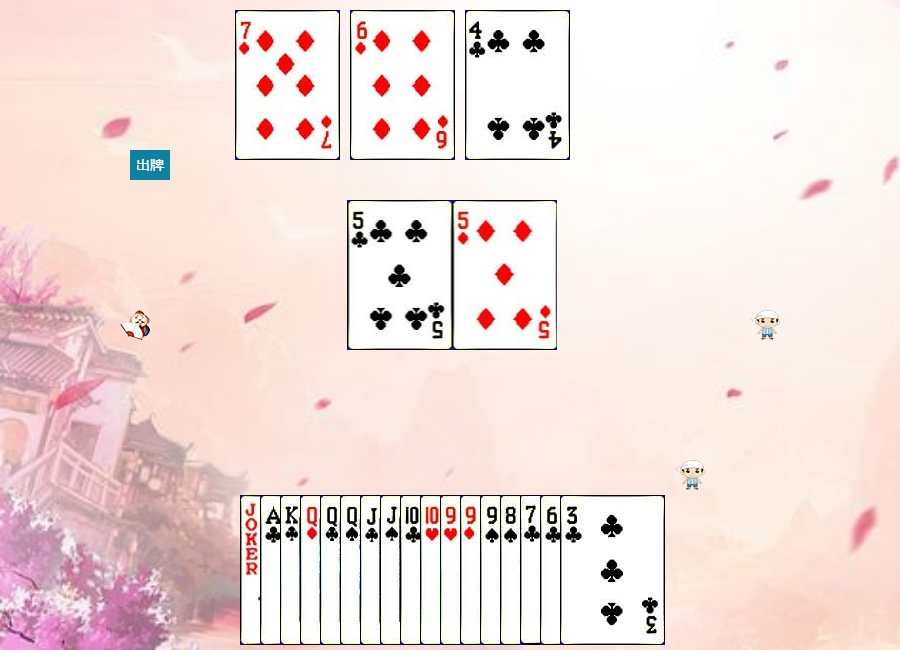10~2: (400, 495, 505, 645)
10~3: (420, 495, 525, 645)
11~2: (360, 495, 465, 645)
11~4: (380, 495, 485, 645)
12~1: (300, 495, 405, 645)
12~2: (320, 495, 425, 645)
12~4: (340, 495, 445, 645)
13~2: (280, 495, 385, 645)
14~2: (260, 495, 365, 645)
18~4: (240, 495, 345, 645)
3~2: (560, 495, 665, 645)
4~2: (465, 10, 570, 160)
5~1: (453, 200, 558, 350)
5~2: (348, 200, 453, 350)
6~1: (350, 10, 455, 160)
6~2: (540, 495, 645, 645)
7~1: (235, 10, 340, 160)
7~2: (520, 495, 625, 645)
8~4: (500, 495, 605, 645)
9~1: (460, 495, 565, 645)
9~3: (440, 495, 545, 645)
9~4: (480, 495, 585, 645)
